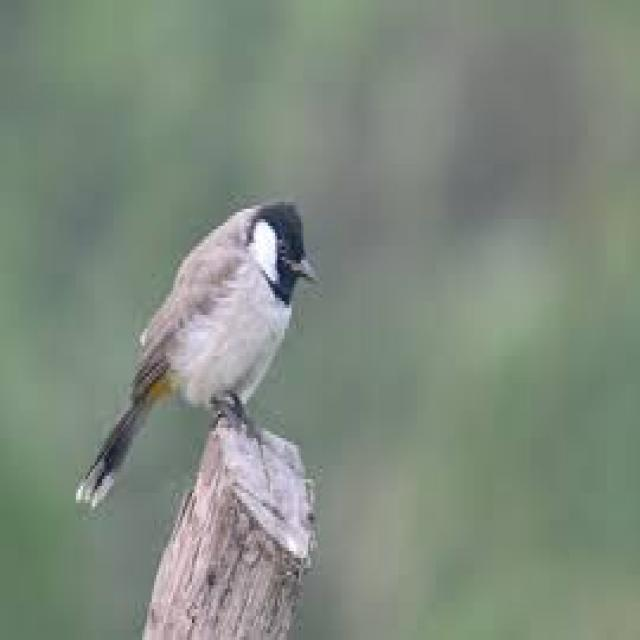bird: (64, 185, 326, 506)
